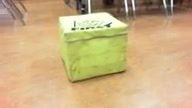cube: (59, 12, 128, 83)
